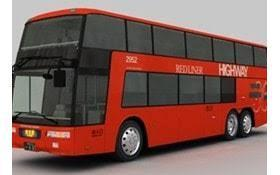bus: (12, 6, 267, 162)
